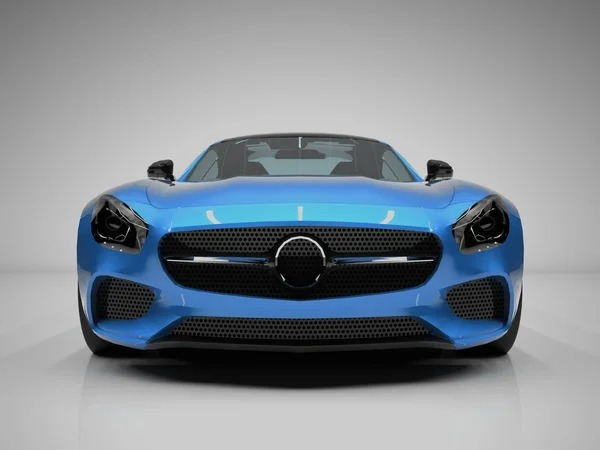car: (63, 146, 538, 355)
